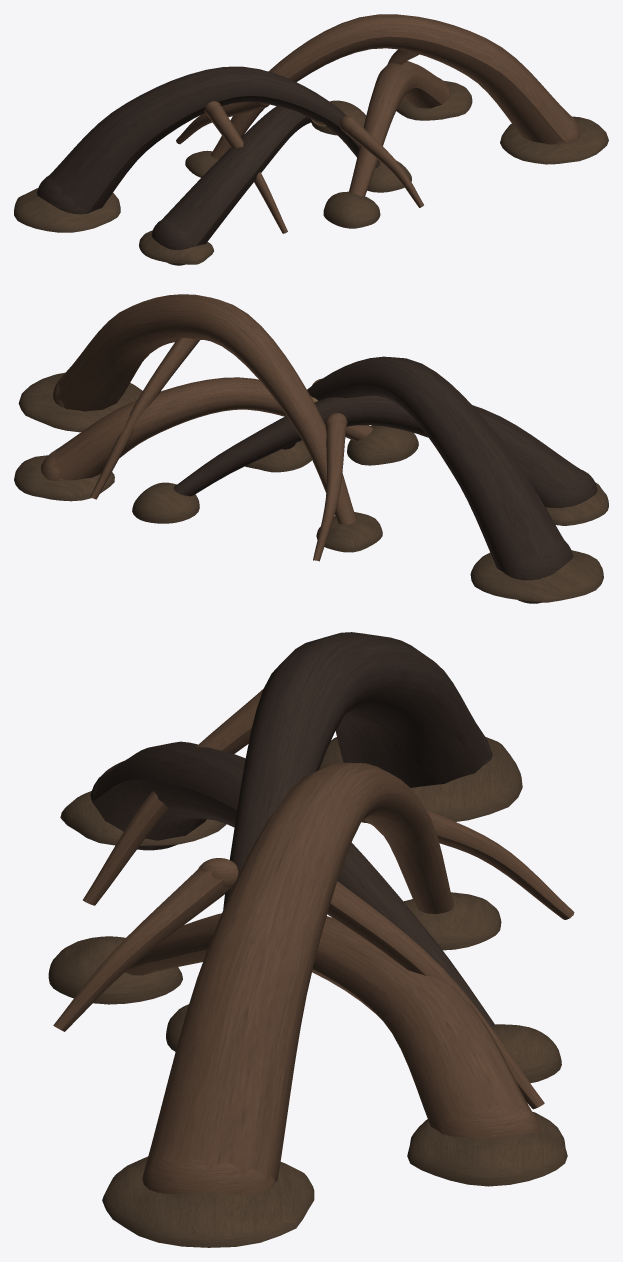
The model's file is root_tangle.glb.
The picture shows the model from 3 angles, top to bottom: view 1: azimuth 30°, elevation 25°; view 2: azimuth 150°, elevation 25°; view 3: azimuth 270°, elevation 25°; orthographic projection. The views are drawn at different scales.
Visible parts, largest first — view 1: root_tangle; view 2: root_tangle; view 3: root_tangle.
Part boxes in pixels (left/top/right/bottom): root_tangle: left=14, top=14, right=608, bottom=265; root_tangle: left=14, top=294, right=608, bottom=603; root_tangle: left=48, top=632, right=574, bottom=1247.
Bounding box in the file's own units: 2.8 × 0.8 × 1.2.
Materials: 1 (1 with a texture image).
